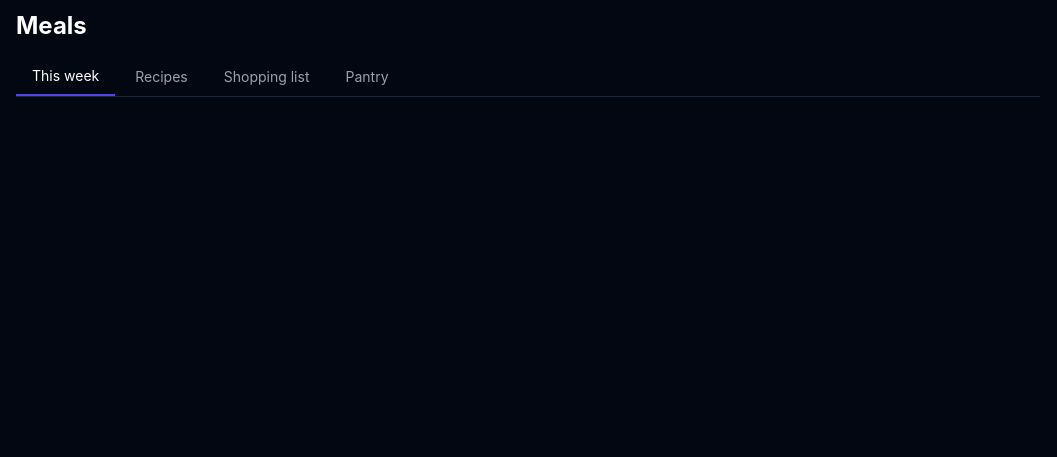
Test: MealsPage › Shopping list › shows where items came from and what the pantry may cover
The image size is (1057, 457).
Click the tab "Shopping list" at (267, 77), box [208,58,326,96]
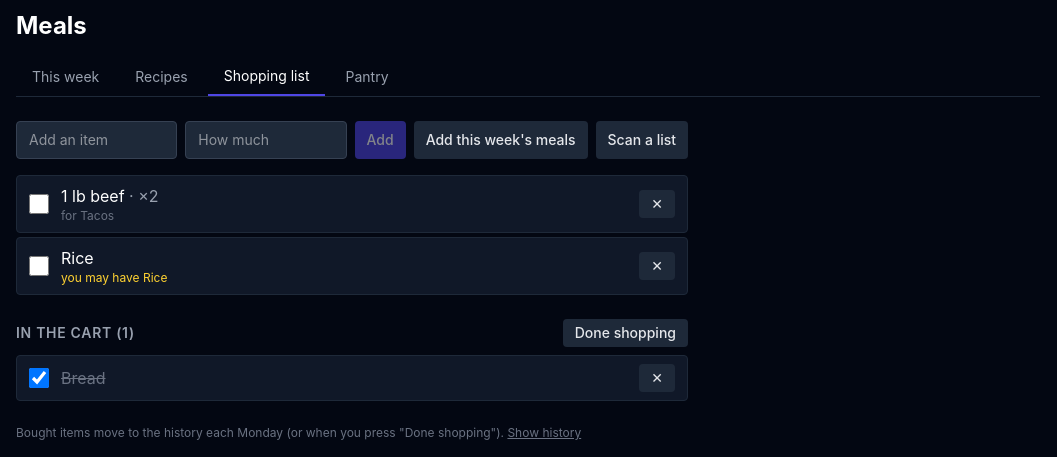
Expected: the text "for Tacos" is shown, [61,208,114,223]
Expected: the text "you may have Rice" is shown, [61,270,167,285]
Expected: the heading "In the cart (1)" is shown, [16,323,135,343]
